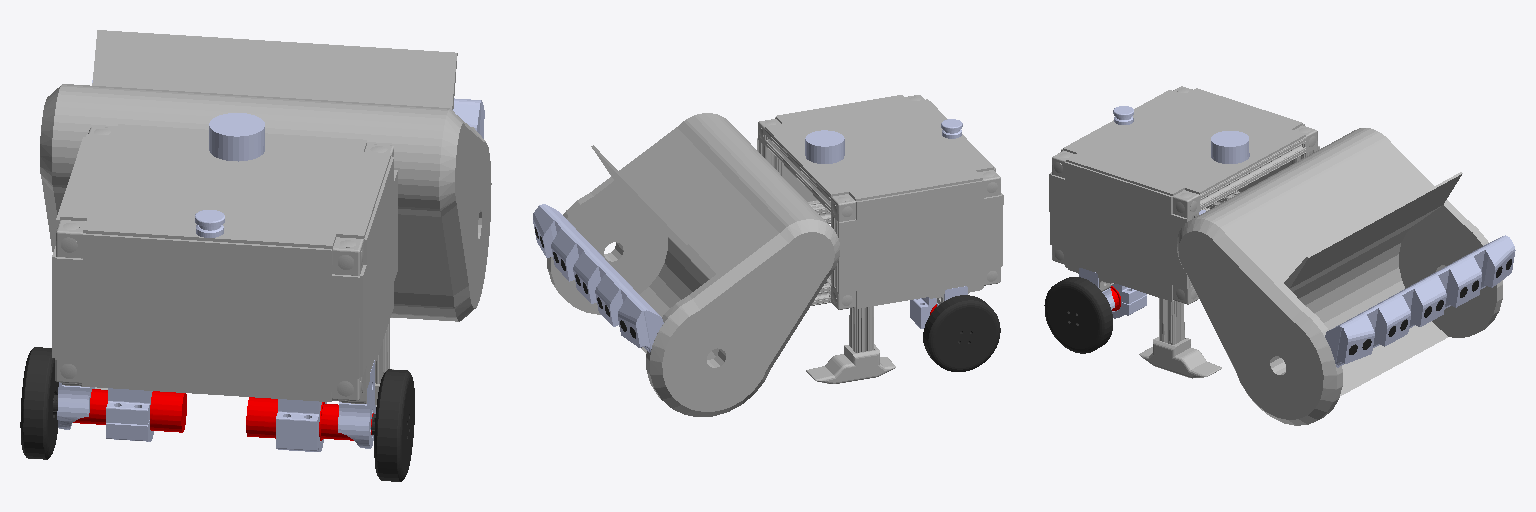
--- What the picture shows (computed from the rendered views, not written in the file) ---
3 views of the same robot in one strip: view 1: azimuth 30°, elevation 25°; view 2: azimuth 150°, elevation 25°; view 3: azimuth 270°, elevation 25° (orthographic).
Model ansrrbot with 22 links and 21 joints (2 continuous, 19 fixed), rooted at base_link, posed all joints at 0.
Visible links, largest first — view 1: base_frame, wheel_right, mot_mount_right, wheel_left, mot_mount_left, lidar, motor_left, motor_right, us_bar, estop, skis; view 2: base_frame, us_bar, wheel_left, skis, lidar, mot_mount_left; view 3: base_frame, us_bar, wheel_right, skis, lidar, mot_mount_right.
Boxes of the visible links, x1,y1,x2,y2 form: base_frame: (40,30,491,403); wheel_right: (371,369,414,481); mot_mount_right: (276,360,375,451); wheel_left: (20,347,58,459); mot_mount_left: (57,382,153,441); lidar: (209,113,264,161); motor_left: (73,389,186,432); motor_right: (246,397,373,440); us_bar: (92,80,484,138); estop: (195,210,224,237); skis: (95,321,393,406); base_frame: (547,95,1003,416); us_bar: (533,204,663,352); wheel_left: (923,295,1000,371); skis: (806,306,895,383); lidar: (805,130,844,163); mot_mount_left: (910,286,967,328); base_frame: (1049,86,1502,425); us_bar: (1325,235,1515,367); wheel_right: (1044,277,1112,353); skis: (1139,298,1221,378); lidar: (1211,131,1249,163); mot_mount_right: (1079,268,1146,318).
Bounding box of the posed robot: 0.5931 × 0.6205 × 0.2839 m (x, y, z).
16 mesh visuals loaded from 16 distinct referenced files (16 binary STL).

URDF robot description (ansrrbot):
<?xml version="1.0" encoding="UTF-8"?>
<!-- This URDF was automatically created by SolidWorks to URDF Exporter! Originally created by Stephen Brawner ([email redacted])     Commit Version: 1.5.1-0-g916b5db  Build Version: 1.5.7152.31018     For more information, please see http://wiki.ros.org/sw_urdf_exporter -->
<robot  name="ansrrbot">
  <link    name="base_link">
    <inertial>
      <origin        xyz="0.0631668806709494 0.0684635695799165 0.403760334290654"        rpy="0 0 0" />
      <mass        value="0.0782705022132233" />
      <inertia        ixx="0.000201129779998313"        ixy="1.68332469736753E-06"        ixz="-0.000244472082866983"        iyy="0.000514319036241318"        iyz="1.31408024765595E-06"        izz="0.000323476555824021" />
    </inertial>
    <visual>
      <origin        xyz="0 0 0"        rpy="0 0 0" />
      <geometry>
        <mesh          filename="package://ansrrbot/meshes/base_link.STL" />
      </geometry>
      <material        name="">
        <color          rgba="0.752941176470588 0.752941176470588 0.752941176470588 1" />
      </material>
    </visual>
    <collision>
      <origin        xyz="0 0 0"        rpy="0 0 0" />
      <geometry>
        <mesh          filename="package://ansrrbot/meshes/base_link.STL" />
      </geometry>
    </collision>
  </link>
  <!--joint    name="jnt_base_link_to_mot_mount_right"    type="fixed">
  <origin      xyz="0.10939 -0.43967 0.029489"      rpy="-1.5673 0.0042368 -0.6628" />
  <parent      link="base_link" />
  <child      link="mot_mount_right" />
  <axis      xyz="0 0 0" />
</joint-->
<link    name="base_frame">
  <inertial>
    <origin        xyz="-0.294123967568871 -0.0487200555106535 0.0009443540351316"        rpy="0 0 0" />
    <mass        value="9.54529718987516" />
    <inertia        ixx="0.152588823283287"        ixy="0.0125906158623084"        ixz="7.79619424573497E-14"        iyy="0.14743720419365"        iyz="7.76854437983115E-14"        izz="0.0567955459383545" />
  </inertial>
  <visual>
    <origin        xyz="0 0 0"        rpy="0 0 0" />
    <geometry>
      <mesh          filename="package://ansrrbot/meshes/base_frame.STL" />
    </geometry>
    <material        name="">
      <color          rgba="0.752941176470588 0.752941176470588 0.752941176470588 1" />
    </material>
  </visual>
  <collision>
    <origin        xyz="0 0 0"        rpy="0 0 0" />
    <geometry>
      <mesh          filename="package://ansrrbot/meshes/base_frame.STL" />
    </geometry>
  </collision>
</link>
<joint    name="jnt_base_link_to_base_frame"    type="fixed">
  <origin      xyz="0.031772414541103 -0.444152171193881 0.0936920566909557"      rpy="-1.57503315487418 0.0035139056725671 -2.23361347543368" />
  <parent      link="base_link" />
  <child      link="base_frame" />
  <axis      xyz="0 0 0" />
</joint>
<link    name="lidar">
  <inertial>
    <!--origin        xyz="-5.5511E-17 0.019358 0"        rpy="0 0 0" /-->
    <mass        value="0.1709" />
    <inertia        ixx="8.1302E-05"        ixy="-4.3649E-20"        ixz="-1.6941E-21"        iyy="0.00012232"        iyz="-4.8016E-20"        izz="8.1302E-05" />
  </inertial>
  <visual>
    <geometry>
      <!--mesh          filename="package://ansrrbot/meshes/lidar.STL" /-->
      <cylinder radius="0.0254" length="0.0254"/>
    </geometry>
    <material        name="">
      <color          rgba="0.79216 0.81961 0.93333 1" />
    </material>
  </visual>
  <collision>
    <geometry>
      <!--mesh          filename="package://ansrrbot/meshes/lidar.STL" /-->
      <cylinder radius="0.0254" length="0.0254"/>
    </geometry>
  </collision>
</link>
<joint    name="jnt_base_frame_to_lidar"    type="fixed">
  <origin      xyz="-0.178 -0.155 0.000199999999999367"      rpy="1.57079632679 0 0" />
  <parent      link="base_frame" />
  <child      link="lidar" />
  <axis      xyz="0 0 0" />
</joint>
<link    name="estop">
  <inertial>
    <origin        xyz="1.4897E-10 0.008752 -2.7756E-16"        rpy="0 0 0" />
    <mass        value="0.0078623" />
    <inertia        ixx="5.1833E-07"        ixy="1.9009E-15"        ixz="5.6591E-26"        iyy="6.3E-07"        iyz="-2.7036E-21"        izz="5.1833E-07" />
  </inertial>
  <visual>
    <origin        xyz="0 0 0"        rpy="0 0 0" />
    <geometry>
      <mesh          filename="package://ansrrbot/meshes/estop.STL" />
    </geometry>
    <material        name="">
      <color          rgba="0.79216 0.81961 0.93333 1" />
    </material>
  </visual>
  <collision>
    <origin        xyz="0 0 0"        rpy="0 0 0" />
    <geometry>
      <mesh          filename="package://ansrrbot/meshes/estop.STL" />
    </geometry>
  </collision>
</link>
<joint    name="jnt_base_link_to_estop"    type="fixed">
  <origin      xyz="-0.000200000000000256 -0.142491871523105 0.000199999999999756"      rpy="0 -0.907989787719994 -3.14159262592722" />
  <parent      link="base_frame" />
  <child      link="estop" />
  <axis      xyz="0 1 0" />
</joint>
<link    name="skis">
  <inertial>
    <origin        xyz="0.0092221 0.12714 -0.033038"        rpy="0 0 0" />
    <mass        value="0.19477" />
    <inertia        ixx="6.79E-05"        ixy="6.642E-08"        ixz="5.2336E-06"        iyy="0.00013752"        iyz="-6.654E-08"        izz="0.00011401" />
  </inertial>
  <visual>
    <origin        xyz="0 0 0"        rpy="0 0 0" />
    <geometry>
      <mesh          filename="package://ansrrbot/meshes/skis.STL" />
    </geometry>
    <material        name="">
      <color          rgba="0.75294 0.75294 0.75294 1" />
    </material>
  </visual>
  <collision>
    <origin        xyz="0 0 0"        rpy="0 0 0" />
    <geometry>
      <mesh          filename="package://ansrrbot/meshes/skis.STL" />
    </geometry>
  </collision>
</link>
<joint    name="jnt_base_frame_to_skis"    type="fixed">
  <origin      xyz="-0.1776 0.0574674999999998 0.127"      rpy="-1.5707963267949 0 -3.14159265358979" />
  <parent      link="base_frame" />
  <child      link="skis" />
  <axis      xyz="0 0 0" />
</joint>
<link    name="us_bar">
  <inertial>
    <origin        xyz="0.1778 0.0675 -0.080061"        rpy="0 0 0" />
    <mass        value="0.47836" />
    <inertia        ixx="0.00014046"        ixy="3.7446E-09"        ixz="2.3211E-09"        iyy="0.005226"        iyz="-1.3578E-05"        izz="0.0052676" />
  </inertial>
  <visual>
    <origin        xyz="0 0 0"        rpy="0 0 0" />
    <geometry>
      <mesh          filename="package://ansrrbot/meshes/us_bar.STL" />
    </geometry>
    <material        name="">
      <color          rgba="0.79216 0.81961 0.93333 1" />
    </material>
  </visual>
  <collision>
    <origin        xyz="0 0 0"        rpy="0 0 0" />
    <geometry>
      <mesh          filename="package://ansrrbot/meshes/us_bar.STL" />
    </geometry>
  </collision>
</link>
<joint    name="jnt_base_frame_to_us_bar"    type="fixed">
  <origin      xyz="-0.40628988793664 0.0263286532747149 -0.176720500000002"      rpy="2.9654670748 -1.5707963267949 0" />
  <parent      link="base_frame" />
  <child      link="us_bar" />
  <axis      xyz="0 0 0" />
</joint>
<link    name="us1">
  <inertial>
    <origin        xyz="-6.1589E-10 0.0047447 -2.6865E-05"        rpy="0 0 0" />
    <mass        value="0.0047406" />
    <inertia        ixx="1.3435E-07"        ixy="1.3975E-15"        ixz="-2.5036E-09"        iyy="3.3647E-07"        iyz="2.7754E-14"        izz="2.6187E-07" />
  </inertial>
  <visual>
    <origin        xyz="0 0 0"        rpy="0 0 0" />
    <geometry>
      <mesh          filename="package://ansrrbot/meshes/us1.STL" />
    </geometry>
    <material        name="">
      <color          rgba="0.2 0.2 0.2 1" />
    </material>
  </visual>
  <collision>
    <origin        xyz="0 0 0"        rpy="0 0 0" />
    <geometry>
      <mesh          filename="package://ansrrbot/meshes/us1.STL" />
    </geometry>
  </collision>
</link>
<joint    name="jnt_us_bar_us1"    type="fixed">
  <origin      xyz="0.330286147286865 0.0625769223863527 -0.0873824433775312"      rpy="-1.5707963267949 0.130899693899576 3.14159265358979" />
  <parent      link="us_bar" />
  <child      link="us1" />
  <axis      xyz="0 0 0" />
</joint>
<link    name="us2">
  <inertial>
    <origin        xyz="-6.15935302761272E-10 0.00474468175729792 -2.68650444928131E-05"        rpy="0 0 0" />
    <mass        value="0.00474055679733208" />
    <inertia        ixx="1.34347269178711E-07"        ixy="1.3976197352941E-15"        ixz="-2.5035814686469E-09"        iyy="3.36467550031301E-07"        iyz="2.77535796139216E-14"        izz="2.61873472444358E-07" />
  </inertial>
  <visual>
    <origin        xyz="0 0 0"        rpy="0 0 0" />
    <geometry>
      <mesh          filename="package://ansrrbot/meshes/us2.STL" />
    </geometry>
    <material        name="">
      <color          rgba="0.2 0.2 0.2 1" />
    </material>
  </visual>
  <collision>
    <origin        xyz="0 0 0"        rpy="0 0 0" />
    <geometry>
      <mesh          filename="package://ansrrbot/meshes/us2.STL" />
    </geometry>
  </collision>
</link>
<joint    name="jnt_us_bar_us2"    type="fixed">
  <origin      xyz="0.254 0.0625769223863528 -0.0903941163303046"      rpy="-1.5707963267949 0 3.14159265358979" />
  <parent      link="us_bar" />
  <child      link="us2" />
  <axis      xyz="0 0 0" />
</joint>
<link    name="us3">
  <inertial>
    <origin        xyz="-6.15935524805877E-10 0.00474468175729792 -2.68650444927021E-05"        rpy="0 0 0" />
    <mass        value="0.00474055679733221" />
    <inertia        ixx="1.34347269178717E-07"        ixy="1.39761992058256E-15"        ixz="-2.50358146864627E-09"        iyy="3.36467550031307E-07"        iyz="2.77535792780862E-14"        izz="2.61873472444358E-07" />
  </inertial>
  <visual>
    <origin        xyz="0 0 0"        rpy="0 0 0" />
    <geometry>
      <mesh          filename="package://ansrrbot/meshes/us3.STL" />
    </geometry>
    <material        name="">
      <color          rgba="0.2 0.2 0.2 1" />
    </material>
  </visual>
  <collision>
    <origin        xyz="0 0 0"        rpy="0 0 0" />
    <geometry>
      <mesh          filename="package://ansrrbot/meshes/us3.STL" />
    </geometry>
  </collision>
</link>
<joint    name="jnt_us_bar_us3"    type="fixed">
  <origin      xyz="0.1778 0.0625769223863529 -0.0903941163303046"      rpy="-1.5707963267949 0 3.14159265358979" />
  <parent      link="us_bar" />
  <child      link="us3" />
  <axis      xyz="0 0 0" />
</joint>
<link    name="us4">
  <inertial>
    <origin        xyz="-6.15935386027999E-10 0.00474468175729786 -2.68650444926744E-05"        rpy="0 0 0" />
    <mass        value="0.0047405567973322" />
    <inertia        ixx="1.34347269178716E-07"        ixy="1.39761993381745E-15"        ixz="-2.5035814686464E-09"        iyy="3.36467550031306E-07"        iyz="2.77535792995929E-14"        izz="2.61873472444358E-07" />
  </inertial>
  <visual>
    <origin        xyz="0 0 0"        rpy="0 0 0" />
    <geometry>
      <mesh          filename="package://ansrrbot/meshes/us4.STL" />
    </geometry>
    <material        name="">
      <color          rgba="0.2 0.2 0.2 1" />
    </material>
  </visual>
  <collision>
    <origin        xyz="0 0 0"        rpy="0 0 0" />
    <geometry>
      <mesh          filename="package://ansrrbot/meshes/us4.STL" />
    </geometry>
  </collision>
</link>
<joint    name="jnt_us_bar_us4"    type="fixed">
  <origin      xyz="0.1016 0.0625769223863529 -0.0903941163303046"      rpy="-1.5707963267949 0 3.14159265358979" />
  <parent      link="us_bar" />
  <child      link="us4" />
  <axis      xyz="0 0 0" />
</joint>
<link    name="us5">
  <inertial>
    <origin        xyz="-6.15898942957216E-10 0.004744681757191 -2.68650446914043E-05"        rpy="0 0 0" />
    <mass        value="0.00474055679749078" />
    <inertia        ixx="1.34347269178855E-07"        ixy="1.39754659929306E-15"        ixz="-2.50358146830835E-09"        iyy="3.36467550030024E-07"        iyz="2.77534433127546E-14"        izz="2.61873472442649E-07" />
  </inertial>
  <visual>
    <origin        xyz="0 0 0"        rpy="0 0 0" />
    <geometry>
      <mesh          filename="package://ansrrbot/meshes/us5.STL" />
    </geometry>
    <material        name="">
      <color          rgba="0.2 0.2 0.2 1" />
    </material>
  </visual>
  <collision>
    <origin        xyz="0 0 0"        rpy="0 0 0" />
    <geometry>
      <mesh          filename="package://ansrrbot/meshes/us5.STL" />
    </geometry>
  </collision>
</link>
<joint    name="jnt_us_bar_us5"    type="fixed">
  <origin      xyz="0.0253138527131348 0.062576922386353 -0.0873824433775311"      rpy="-1.5707963267949 -0.130899693899567 3.14159265358979" />
  <parent      link="us_bar" />
  <child      link="us5" />
  <axis      xyz="0 0 0" />
</joint>
<link    name="mot_mount_left">
  <inertial>
    <origin        xyz="9.2797E-05 -0.012919 0.032051"        rpy="0 0 0" />
    <mass        value="0.10538" />
    <inertia        ixx="3.6874E-05"        ixy="1.9924E-07"        ixz="-1.2793E-11"        iyy="4.166E-05"        iyz="1.6101E-08"        izz="5.4808E-05" />
  </inertial>
  <visual>
    <origin        xyz="0 0 0"        rpy="0 0 0" />
    <geometry>
      <mesh          filename="package://ansrrbot/meshes/mot_mount_left.STL" />
    </geometry>
    <material        name="">
      <color          rgba="0.79216 0.81961 0.93333 1" />
    </material>
  </visual>
  <collision>
    <origin        xyz="0 0 0"        rpy="0 0 0" />
    <geometry>
      <mesh          filename="package://ansrrbot/meshes/mot_mount_left.STL" />
    </geometry>
  </collision>
</link>
<joint    name="jnt_base_link_to_mot_mount_left"    type="fixed">
  <origin      xyz="0.0168501866124379 -0.367432662183493 0.0299861778434074"      rpy="-1.56655949871561 -0.00351390567256711 0.907979178156117" />
  <parent      link="base_link" />
  <child      link="mot_mount_left" />
  <axis      xyz="0 0 0" />
</joint>
<link    name="motor_left">
  <inertial>
    <origin        xyz="7.6716E-14 -1.59E-13 0.023203"        rpy="0 0 0" />
    <mass        value="0.10845" />
    <inertia        ixx="0.00011734"        ixy="2.3717E-20"        ixz="2.0329E-19"        iyy="0.00011734"        iyz="1.3934E-19"        izz="1.6909E-05" />
  </inertial>
  <visual>
    <origin        xyz="0 0 0"        rpy="0 0 0" />
    <geometry>
      <mesh          filename="package://ansrrbot/meshes/motor_left.STL" />
    </geometry>
    <material        name="">
      <color          rgba="1 0 0 1" />
    </material>
  </visual>
  <collision>
    <origin        xyz="0 0 0"        rpy="0 0 0" />
    <geometry>
      <mesh          filename="package://ansrrbot/meshes/motor_left.STL" />
    </geometry>
  </collision>
</link>
<joint    name="jnt_mot_mount_left_to_motor_left"    type="fixed">
  <origin      xyz="0 0 0"      rpy="0 0 -0.279121976980072" />
  <parent      link="mot_mount_left" />
  <child      link="motor_left" />
  <axis      xyz="0 0 1" />
</joint>
<link    name="wheel_left">
  <inertial>
    <origin        xyz="-2.1781E-07 2.3964E-07 0.080485"        rpy="0 0 0" />
    <mass        value="0.19631" />
    <inertia        ixx="0.00013571"        ixy="4.4933E-09"        ixz="-2.4932E-12"        iyy="0.0001357"        iyz="3.2511E-12"        izz="0.00025137" />
  </inertial>
  <visual>
    <origin        xyz="0 0 0"        rpy="0 0 0" />
    <geometry>
      <mesh          filename="package://ansrrbot/meshes/wheel_left.STL" />
    </geometry>
    <material        name="">
      <color          rgba="0.25098 0.25098 0.25098 1" />
    </material>
  </visual>
  <collision>
    <origin        xyz="0 0 0"        rpy="0 0 0" />
    <geometry>
      <mesh          filename="package://ansrrbot/meshes/wheel_left.STL" />
    </geometry>
  </collision>
</link>
<joint    name="jnt_motor_left_to_wheel_left"    type="continuous">
  <origin      xyz="0 0 0.0220081655554961"      rpy="0 0 2.4215204031918" />
  <parent      link="motor_left" />
  <child      link="wheel_left" />
  <axis      xyz="0 0 1" />
</joint>
<link    name="mot_mount_right">
  <inertial>
    <origin        xyz="9.2798E-05 -0.012919 0.032051"        rpy="0 0 0" />
    <mass        value="0.10538" />
    <inertia        ixx="3.6874E-05"        ixy="1.9924E-07"        ixz="-1.2989E-11"        iyy="4.166E-05"        iyz="1.6101E-08"        izz="5.4808E-05" />
  </inertial>
  <visual>
    <origin        xyz="0 0 0"        rpy="0 0 0" />
    <geometry>
      <mesh          filename="package://ansrrbot/meshes/mot_mount_right.STL" />
    </geometry>
    <material        name="">
      <color          rgba="0.79216 0.81961 0.93333 1" />
    </material>
  </visual>
  <collision>
    <origin        xyz="0 0 0"        rpy="0 0 0" />
    <geometry>
      <mesh          filename="package://ansrrbot/meshes/mot_mount_right.STL" />
    </geometry>
  </collision>
</link>
<joint    name="jnt_base_link_to_mot_mount_right"    type="fixed">
  <origin      xyz="0.109392373610021 -0.439671545202831 0.0294887787860317"      rpy="-1.57503315487419 0.00351390567256582 -2.23361347543368" />
  <parent      link="base_link" />
  <child      link="mot_mount_right" />
  <axis      xyz="0 0 0" />
</joint>
<link    name="motor_right">
  <inertial>
    <origin        xyz="0 7.7022E-16 0.023203"        rpy="0 0 0" />
    <mass        value="0.10845" />
    <inertia        ixx="0.00011734"        ixy="7.4115E-22"        ixz="1.1689E-19"        iyy="0.00011734"        iyz="6.861E-20"        izz="1.6909E-05" />
  </inertial>
  <visual>
    <origin        xyz="0 0 0"        rpy="0 0 0" />
    <geometry>
      <mesh          filename="package://ansrrbot/meshes/motor_right.STL" />
    </geometry>
    <material        name="">
      <color          rgba="1 0 0 1" />
    </material>
  </visual>
  <collision>
    <origin        xyz="0 0 0"        rpy="0 0 0" />
    <geometry>
      <mesh          filename="package://ansrrbot/meshes/motor_right.STL" />
    </geometry>
  </collision>
</link>
<joint    name="jnt_mot_mount_right_to_motor_right"    type="fixed">
  <origin      xyz="0 0 0"      rpy="0 0 -3.12636538691104" />
  <parent      link="mot_mount_right" />
  <child      link="motor_right" />
  <axis      xyz="0 0 1" />
</joint>
<link    name="wheel_right">
  <inertial>
    <origin        xyz="2.534E-07 -2.016E-07 0.081883"        rpy="0 0 0" />
    <mass        value="0.19631" />
    <inertia        ixx="0.00013571"        ixy="5.5107E-09"        ixz="2.9965E-12"        iyy="0.00013571"        iyz="-2.7265E-12"        izz="0.00025137" />
  </inertial>
  <visual>
    <origin        xyz="0 0 0"        rpy="0 0 0" />
    <geometry>
      <mesh          filename="package://ansrrbot/meshes/wheel_right.STL" />
    </geometry>
    <material        name="">
      <color          rgba="0.25098 0.25098 0.25098 1" />
    </material>
  </visual>
  <collision>
    <origin        xyz="0 0 0"        rpy="0 0 0" />
    <geometry>
      <mesh          filename="package://ansrrbot/meshes/wheel_right.STL" />
    </geometry>
  </collision>
</link>
<joint    name="jnt_motor_right_to_wheel_right"    type="continuous">
  <origin      xyz="0 0 0.0227135395020008"      rpy="0 0 -0.734637759006842" />
  <parent      link="motor_right" />
  <child      link="wheel_right" />
  <axis      xyz="0 0 -1" />
</joint>
<gazebo>
  <plugin filename="libgazebo_ros_diff_drive.so" name="differential_drive_controller">
    <leftJoint>jnt_motor_left_to_wheel_left</leftJoint>
    <rightJoint>jnt_motor_right_to_wheel_right</rightJoint>
    <robotBaseFrame>base_link</robotBaseFrame>
    <wheelSeparation>0.3556</wheelSeparation>
    <wheelDiameter>0.102</wheelDiameter>
    <wheelTorque>50</wheelTorque>
    <publishWheelJointState>true</publishWheelJointState>
    <publishTf>1</publishTf>
  </plugin>
</gazebo>
<gazebo reference="base_frame">
  <mu1>.25</mu1>
  <mu2>.25</mu2>
</gazebo>
<gazebo reference="skis">
  <mu1>.25</mu1>
  <mu2>.25</mu2>
</gazebo>
<gazebo reference="wheel_left">
  <mu1>.9</mu1>
  <mu2>.75</mu2>
</gazebo>
<gazebo reference="wheel_right">
  <mu1>1</mu1>
  <mu2>.8</mu2>
</gazebo>\<gazebo reference="lidar">
<sensor name="lidar_sensor" type="ray">
  <pose>0 0 0 0 0 0</pose>
  <visualize>0</visualize>
  <update_rate>10</update_rate>
  <ray>
    <scan>
      <horizontal>
        <samples>8000</samples>
        <resolution>1</resolution>
        <min_angle>0</min_angle>
        <max_angle>6.28</max_angle>
      </horizontal>
    </scan>
    <range>
      <min>0.15</min>
      <max>12</max>
      <resolution>.02</resolution>
    </range>
  </ray>
  <plugin name="gazebo_ros_lds_lfcd_controller " filename="libgazebo_ros_laser.so">
    <topicName>/scan</topicName>
    <frameName>lidar</frameName>
  </plugin>
</sensor>
</gazebo>
<!-- Ultrasound Sensors-->
<link name="dummy_us1">
  <inertial>
    <origin        xyz="0 0 0"        rpy="0 0 0" />
    <mass        value="0.001" />
    <inertia        ixx="5.606E-06"        ixy="0"        ixz="0"        iyy="5.606E-06"        iyz="0"        izz="5.606E-06" />
  </inertial>
  <visual>
    <geometry>
      <box size="0.001 0.001 0.001"/>
    </geometry>
    <material        name="">
      <color          rgba="0.25098 0.25098 0.25098 1" />
    </material>
  </visual>
  <collision>
    <origin        xyz="0 0 0"        rpy="0 0 0" />
    <geometry>
      <box size="0.001 0.001 0.001"/>
    </geometry>
  </collision>
</link>
<joint    name="jnt_dummy1"    type="fixed">
  <origin      xyz="0 0 0"      rpy="0 0 1.57" />
  <parent      link="us1" />
  <child      link="dummy_us1" />
  <axis      xyz="0 0 0" />
</joint>
<gazebo reference="dummy_us1">
  <sensor name="us_sensor1" type="ray">
    <pose>0 0 0 0 0 0</pose>
    <visualize>1</visualize>
    <update_rate>50</update_rate>
    <ray>
      <scan>
        <horizontal>
          <samples>10</samples>
          <resolution>5</resolution>
          <min_angle>-0.14835</min_angle>
          <max_angle>0.14835</max_angle>
        </horizontal>
        <vertical>
          <samples>10</samples>
          <resolution>5</resolution>
          <min_angle>-0.14835</min_angle>
          <max_angle>0.14835</max_angle>
        </vertical>
      </scan>
      <range>
        <min>0.1</min>
        <max>0.85</max>
        <resolution>0.01</resolution>
      </range>
    </ray>
    <plugin filename="libgazebo_ros_range.so" name="gazebo_ros_us1">
      <gaussianNoise>0.001</gaussianNoise>
      <alwaysOn>true</alwaysOn>
      <updateRate>50</updateRate>
      <topicName>obs_us1</topicName>
      <frameName>dummy_us1</frameName>
      <radiation>ULTRASOUND</radiation>
      <fov>0.2967</fov>
    </plugin>
  </sensor>
</gazebo>
<link name="dummy_us2">
  <inertial>
    <origin        xyz="0 0 0"        rpy="0 0 0" />
    <mass        value="0.001" />
    <inertia        ixx="5.606E-06"        ixy="0"        ixz="0"        iyy="5.606E-06"        iyz="0"        izz="5.606E-06" />
  </inertial>
  <visual>
    <geometry>
      <box size="0.001 0.001 0.001"/>
    </geometry>
    <material        name="">
      <color          rgba="0.25098 0.25098 0.25098 1" />
    </material>
  </visual>
  <collision>
    <origin        xyz="0 0 0"        rpy="0 0 0" />
    <geometry>
      <box size="0.001 0.001 0.001"/>
    </geometry>
  </collision>
</link>
<joint    name="jnt_dummy2"    type="fixed">
  <origin      xyz="0 0 0"      rpy="0 0 1.57" />
  <parent      link="us2" />
  <child      link="dummy_us2" />
  <axis      xyz="0 0 0" />
</joint>
<gazebo reference="dummy_us2">
  <sensor name="us_sensor2" type="ray">
    <pose>0 0 0 0 0 0</pose>
    <visualize>1</visualize>
    <update_rate>50</update_rate>
    <ray>
      <scan>
        <horizontal>
          <samples>10</samples>
          <resolution>5</resolution>
          <min_angle>-0.14835</min_angle>
          <max_angle>0.14835</max_angle>
        </horizontal>
        <vertical>
          <samples>10</samples>
          <resolution>5</resolution>
          <min_angle>-0.14835</min_angle>
          <max_angle>0.14835</max_angle>
        </vertical>
      </scan>
      <range>
        <min>0.1</min>
        <max>0.85</max>
        <resolution>0.01</resolution>
      </range>
    </ray>
    <plugin filename="libgazebo_ros_range.so" name="gazebo_ros_us2">
      <gaussianNoise>0.001</gaussianNoise>
      <alwaysOn>true</alwaysOn>
      <updateRate>50</updateRate>
      <topicName>obs_us2</topicName>
      <frameName>dummy_us2</frameName>
      <radiation>ULTRASOUND</radiation>
      <fov>0.2967</fov>
    </plugin>
  </sensor>
</gazebo>
<link name="dummy_us3">
  <inertial>
    <origin        xyz="0 0 0"        rpy="0 0 0" />
    <mass        value="0.001" />
    <inertia        ixx="5.606E-06"        ixy="0"        ixz="0"        iyy="5.606E-06"        iyz="0"        izz="5.606E-06" />
  </inertial>
  <visual>
    <geometry>
      <box size="0.001 0.001 0.001"/>
    </geometry>
    <material        name="">
      <color          rgba="0.25098 0.25098 0.25098 1" />
    </material>
  </visual>
  <collision>
    <origin        xyz="0 0 0"        rpy="0 0 0" />
    <geometry>
      <box size="0.001 0.001 0.001"/>
    </geometry>
  </collision>
</link>
<joint    name="jnt_dummy3"    type="fixed">
  <origin      xyz="0 0 0"      rpy="0 0 1.57" />
  <parent      link="us3" />
  <child      link="dummy_us3" />
  <axis      xyz="0 0 0" />
</joint>
<gazebo reference="dummy_us3">
  <sensor name="us_sensor3" type="ray">
    <pose>0 0 0 0 0 0</pose>
    <visualize>1</visualize>
    <update_rate>50</update_rate>
    <ray>
      <scan>
        <horizontal>
          <samples>10</samples>
          <resolution>5</resolution>
          <min_angle>-0.14835</min_angle>
          <max_angle>0.14835</max_angle>
        </horizontal>
        <vertical>
          <samples>10</samples>
          <resolution>5</resolution>
          <min_angle>-0.14835</min_angle>
          <max_angle>0.14835</max_angle>
        </vertical>
      </scan>
      <range>
        <min>0.1</min>
        <max>0.85</max>
        <resolution>0.01</resolution>
      </range>
    </ray>
    <plugin filename="libgazebo_ros_range.so" name="gazebo_ros_us3">
      <gaussianNoise>0.001</gaussianNoise>
      <alwaysOn>true</alwaysOn>
      <updateRate>50</updateRate>
      <topicName>obs_us3</topicName>
      <frameName>dummy_us3</frameName>
      <radiation>ULTRASOUND</radiation>
      <fov>0.2967</fov>
    </plugin>
  </sensor>
</gazebo>
<link name="dummy_us4">
  <inertial>
    <origin        xyz="0 0 0"        rpy="0 0 0" />
    <mass        value="0.001" />
    <inertia        ixx="5.606E-06"        ixy="0"        ixz="0"        iyy="5.606E-06"        iyz="0"        izz="5.606E-06" />
  </inertial>
  <visual>
    <geometry>
      <box size="0.001 0.001 0.001"/>
    </geometry>
    <material        name="">
      <color          rgba="0.25098 0.25098 0.25098 1" />
    </material>
  </visual>
  <collision>
    <origin        xyz="0 0 0"        rpy="0 0 0" />
    <geometry>
      <box size="0.001 0.001 0.001"/>
    </geometry>
  </collision>
</link>
<joint    name="jnt_dummy4"    type="fixed">
  <origin      xyz="0 0 0"      rpy="0 0 1.57" />
  <parent      link="us4" />
  <child      link="dummy_us4" />
  <axis      xyz="0 0 0" />
</joint>
<gazebo reference="dummy_us4">
  <sensor name="us_sensor4" type="ray">
    <pose>0 0 0 0 0 0</pose>
    <visualize>1</visualize>
    <update_rate>50</update_rate>
    <ray>
      <scan>
        <horizontal>
          <samples>10</samples>
          <resolution>5</resolution>
          <min_angle>-0.14835</min_angle>
          <max_angle>0.14835</max_angle>
        </horizontal>
        <vertical>
          <samples>10</samples>
          <resolution>5</resolution>
          <min_angle>-0.14835</min_angle>
          <max_angle>0.14835</max_angle>
        </vertical>
      </scan>
      <range>
        <min>0.1</min>
        <max>0.85</max>
        <resolution>0.01</resolution>
      </range>
    </ray>
    <plugin filename="libgazebo_ros_range.so" name="gazebo_ros_us4">
      <gaussianNoise>0.001</gaussianNoise>
      <alwaysOn>true</alwaysOn>
      <updateRate>50</updateRate>
      <topicName>obs_us4</topicName>
      <frameName>dummy_us4</frameName>
      <radiation>ULTRASOUND</radiation>
      <fov>0.2967</fov>
    </plugin>
  </sensor>
</gazebo>

<link name="dummy_us5">
  <inertial>
    <origin        xyz="0 0 0"        rpy="0 0 0" />
    <mass        value="0.001" />
    <inertia        ixx="5.606E-06"        ixy="0"        ixz="0"        iyy="5.606E-06"        iyz="0"        izz="5.606E-06" />
  </inertial>
  <visual>
    <geometry>
      <box size="0.001 0.001 0.001"/>
    </geometry>
    <material        name="">
      <color          rgba="0.25098 0.25098 0.25098 1" />
    </material>
  </visual>
  <collision>
    <origin        xyz="0 0 0"        rpy="0 0 0" />
    <geometry>
      <box size="0.001 0.001 0.001"/>
    </geometry>
  </collision>
</link>
<joint    name="jnt_dummy5"    type="fixed">
  <origin      xyz="0 0 0"      rpy="0 0 1.57" />
  <parent      link="us5" />
  <child      link="dummy_us5" />
  <axis      xyz="0 0 0" />
</joint>
<gazebo reference="dummy_us5">
  <sensor name="us_sensor5" type="ray">
    <pose>0 0 0 0 0 0</pose>
    <visualize>1</visualize>
    <update_rate>50</update_rate>
    <ray>
      <scan>
        <horizontal>
          <samples>10</samples>
          <resolution>5</resolution>
          <min_angle>-0.14835</min_angle>
          <max_angle>0.14835</max_angle>
        </horizontal>
        <vertical>
          <samples>10</samples>
          <resolution>5</resolution>
          <min_angle>-0.14835</min_angle>
          <max_angle>0.14835</max_angle>
        </vertical>
      </scan>
      <range>
        <min>0.1</min>
        <max>0.85</max>
        <resolution>0.01</resolution>
      </range>
    </ray>
    <plugin filename="libgazebo_ros_range.so" name="gazebo_ros_us5">
      <gaussianNoise>0.001</gaussianNoise>
      <alwaysOn>true</alwaysOn>
      <updateRate>50</updateRate>
      <topicName>obs_us5</topicName>
      <frameName>dummy_us5</frameName>
      <radiation>ULTRASOUND</radiation>
      <fov>0.2967</fov>
    </plugin>
  </sensor>
</gazebo>
</robot>
